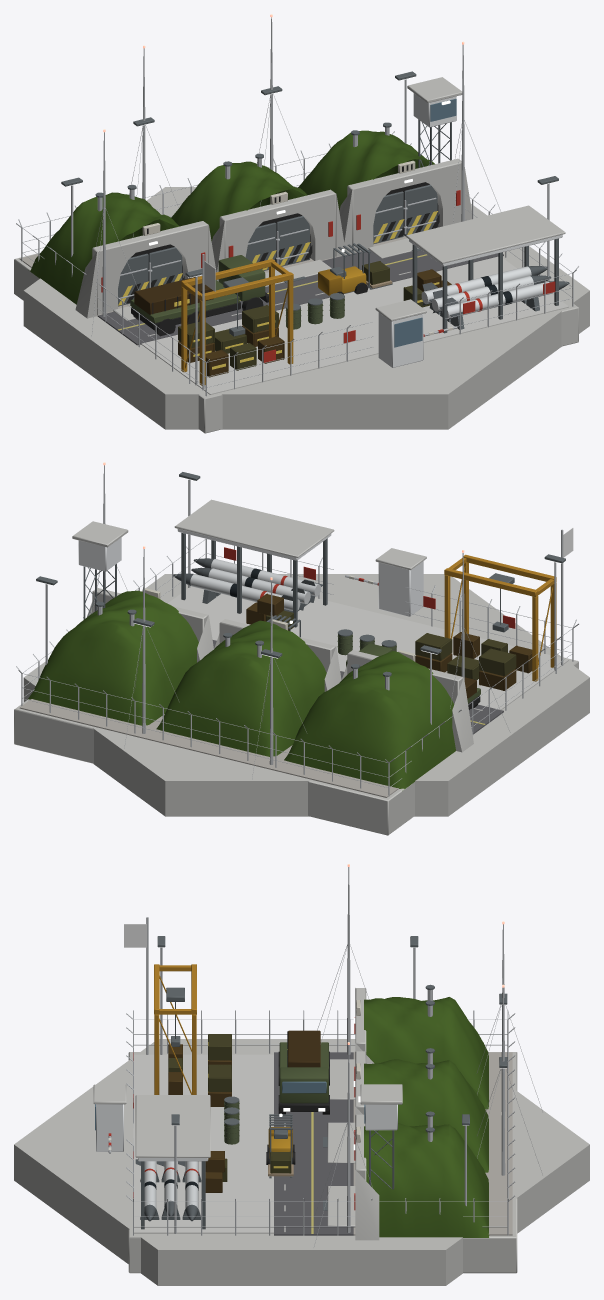
File: ammoDepot.glb
The picture shows the model from 3 angles, top to bottom: view 1: azimuth 30°, elevation 25°; view 2: azimuth 150°, elevation 25°; view 3: azimuth 270°, elevation 25°; orthographic projection.
Parts seen in each view (by area): view 1: wall_concrete, turf, paint, pavers, steel_dark, metal, wood, asphalt, dark, cladding, hazard, glass; view 2: wall_concrete, turf, paint, metal, pavers, wood, gravel, steel_dark, cladding, asphalt; view 3: wall_concrete, turf, pavers, metal, paint, asphalt, wood, gravel, steel_dark, cladding, dark, glass (+1 smaller).
Boxes of the visible parts, bbox=[...] form: wall_concrete: bbox=[14, 77, 589, 433]; turf: bbox=[28, 130, 434, 304]; paint: bbox=[101, 160, 569, 385]; pavers: bbox=[141, 256, 568, 394]; steel_dark: bbox=[61, 71, 558, 336]; metal: bbox=[16, 17, 578, 396]; wood: bbox=[134, 261, 451, 377]; asphalt: bbox=[98, 249, 503, 345]; dark: bbox=[126, 164, 439, 336]; cladding: bbox=[378, 93, 562, 367]; hazard: bbox=[118, 211, 439, 369]; glass: bbox=[394, 98, 456, 347]; wall_concrete: bbox=[14, 499, 589, 835]; turf: bbox=[27, 590, 455, 790]; paint: bbox=[142, 547, 556, 703]; metal: bbox=[16, 465, 578, 796]; pavers: bbox=[168, 586, 568, 709]; wood: bbox=[246, 593, 532, 698]; gravel: bbox=[19, 699, 398, 797]; steel_dark: bbox=[36, 472, 565, 676]; cladding: bbox=[78, 529, 423, 616]; asphalt: bbox=[212, 640, 503, 734]; wall_concrete: bbox=[14, 988, 589, 1285]; turf: bbox=[364, 997, 489, 1237]; pavers: bbox=[133, 1054, 273, 1233]; metal: bbox=[108, 867, 543, 1247]; paint: bbox=[108, 964, 360, 1221]; asphalt: bbox=[274, 1052, 353, 1235]; wood: bbox=[168, 1030, 320, 1192]; gravel: bbox=[353, 1052, 512, 1235]; steel_dark: bbox=[140, 936, 507, 1229]; cladding: bbox=[96, 1104, 397, 1161]; dark: bbox=[266, 1002, 356, 1164]; glass: bbox=[95, 1081, 365, 1130].
Size of the model in its own units: 21.3 by 10.7 by 24.6.
